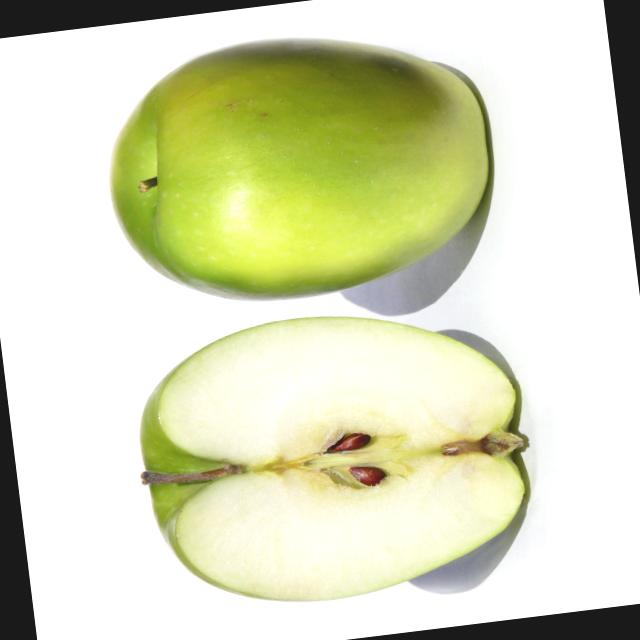apple: (102, 285, 562, 627), (84, 6, 516, 368)
